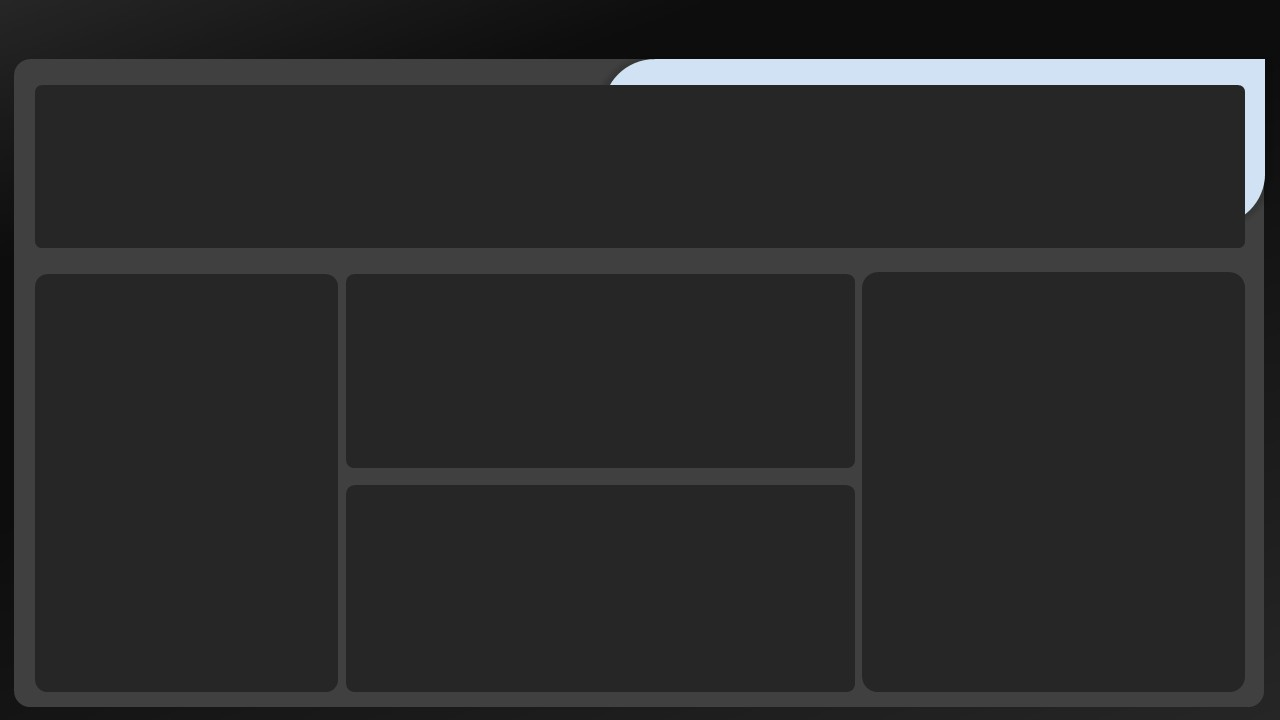

This screenshot's page, from the dashboard's own definition file:
{"tool":"powerbi","page":{"name":"Dark financail","canvas":[1280,720],"ordinal":2},"visuals":[{"type":"cardVisual","fields":{"Data":["DAX calculation.Total Billing Amount","DAX calculation.Total Medication cost","DAX calculation.Total Treatment Cost","DAX calculation.Total Insurance Covered","DAX calculation.Out-of-Pocket","DAX calculation.Total Room Charges"]},"box":[37.3,84,1197.3,156],"z":0},{"type":"actionButton","title":"open filter","box":[773.6,7.2,130.1,44.8],"z":1000,"group":"g1"},{"type":"hundredPercentStackedBarChart","fields":{"Y":["DAX calculation.Total Billing Amount"],"Category":["diagnoses.Diagnosis"],"Series":["visits.Service Type"]},"box":[352,484,489.3,209.3],"z":1000},{"type":"clusteredBarChart","title":"Total Billing Amount by Department","fields":{"Category":["departments.Department"],"Y":["DAX calculation.Blank Measures","DAX calculation.Total Billing Amount"]},"box":[868,282.7,366.7,401.3],"z":2000},{"type":"map","fields":{"Category":["cities.City"],"Size":["DAX calculation.Total Billing Amount"]},"box":[37.4,337.8,290.8,346.2],"z":3000},{"type":"clusteredColumnChart","fields":{"Y":["DAX calculation.Total Billing Amount"],"Category":["procedures.Procedure"]},"box":[352,273.3,502.7,186.7],"z":4000},{"type":"textbox","box":[37.5,12.5,425,45.8],"z":5000},{"type":"advancedSlicerVisual","fields":{"Values":["Patients Location Switch.Patients Location Switch"]},"box":[36.2,282.3,290.8,47.1],"z":6000},{"type":"actionButton","box":[1081,12.1,177.3,39.8],"z":7000},{"type":"image","box":[1029.1,0,60.3,63.9],"z":8000},{"type":"group","id":"g1","title":"Slicer Button","box":[773.6,7.2,130.1,44.8],"z":10000}]}

Visuals, with their boxes in screenshot pixels (x1, y1, x2, y2), scaled from the page's 1280x720 canvas onto the 1280x720 screenshot:
cardVisual - DAX calculation.Total Billing Amount x DAX calculation.Total Medication cost: Rect(37, 84, 1235, 240)
"open filter" actionButton: Rect(774, 7, 904, 52)
hundredPercentStackedBarChart - DAX calculation.Total Billing Amount x diagnoses.Diagnosis: Rect(352, 484, 841, 693)
"Total Billing Amount by Department" clusteredBarChart: Rect(868, 283, 1235, 684)
map - cities.City x DAX calculation.Total Billing Amount: Rect(37, 338, 328, 684)
clusteredColumnChart - DAX calculation.Total Billing Amount x procedures.Procedure: Rect(352, 273, 855, 460)
textbox: Rect(38, 12, 462, 58)
advancedSlicerVisual - Patients Location Switch.Patients Location Switch: Rect(36, 282, 327, 329)
actionButton: Rect(1081, 12, 1258, 52)
image: Rect(1029, 0, 1089, 64)
"Slicer Button" group: Rect(774, 7, 904, 52)
